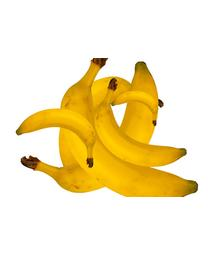banana: (15, 58, 199, 196)
